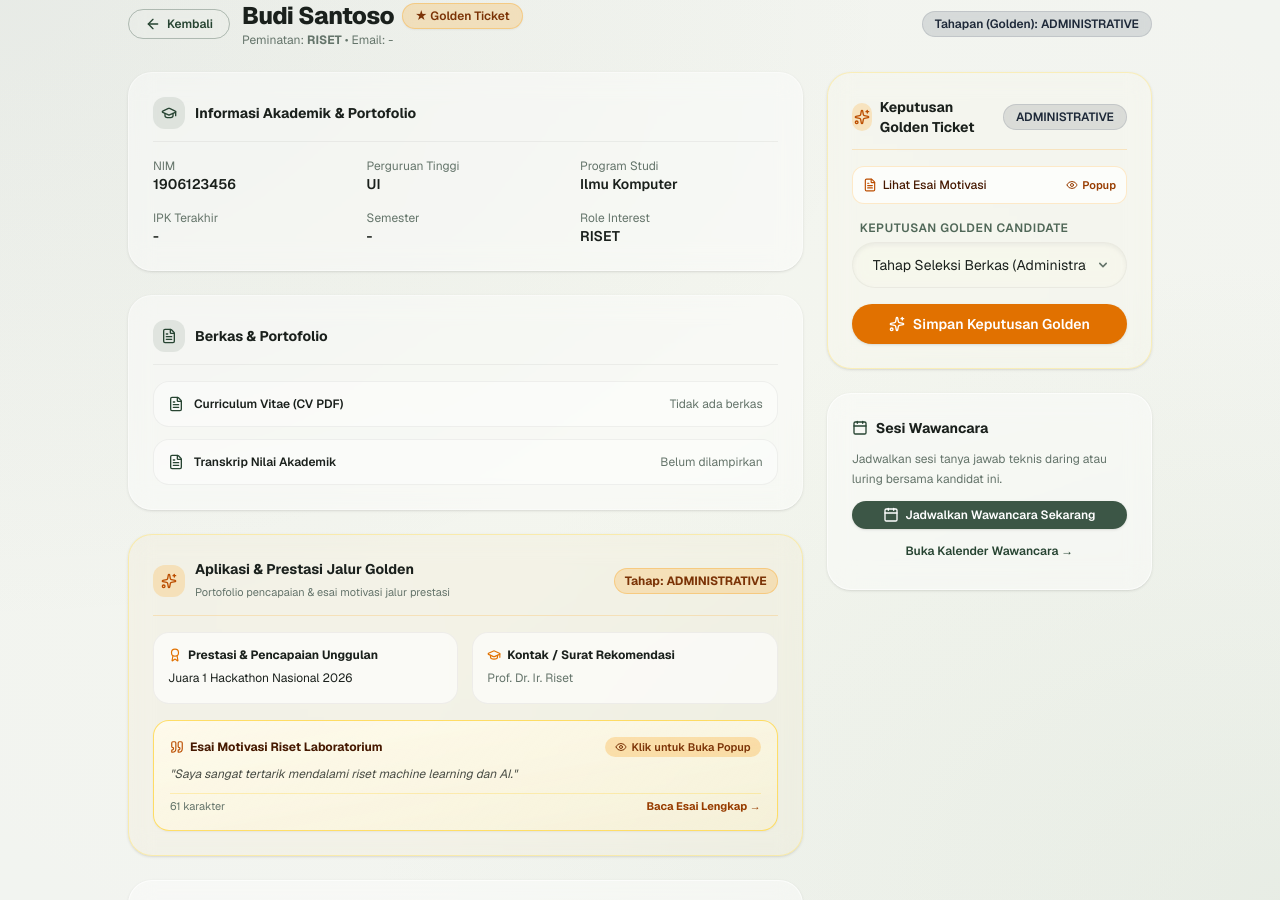
app/admin/candidates/[id] › renders golden candidate section and opens motivation essay popup modal when clicked
Expected: the heading "Aplikasi & Prestasi Jalur Golden" is shown, left=195, top=559, right=450, bottom=579
Expected: the text "Juara 1 Hackathon Nasional 2026" is shown, left=168, top=670, right=352, bottom=686
Note: Click the trigger card / button
What coordinates should you click on to do the following:
click the text "Klik untuk Buka Popup"
I would click on:
 (683, 747)
Its box is left=606, top=736, right=761, bottom=757.
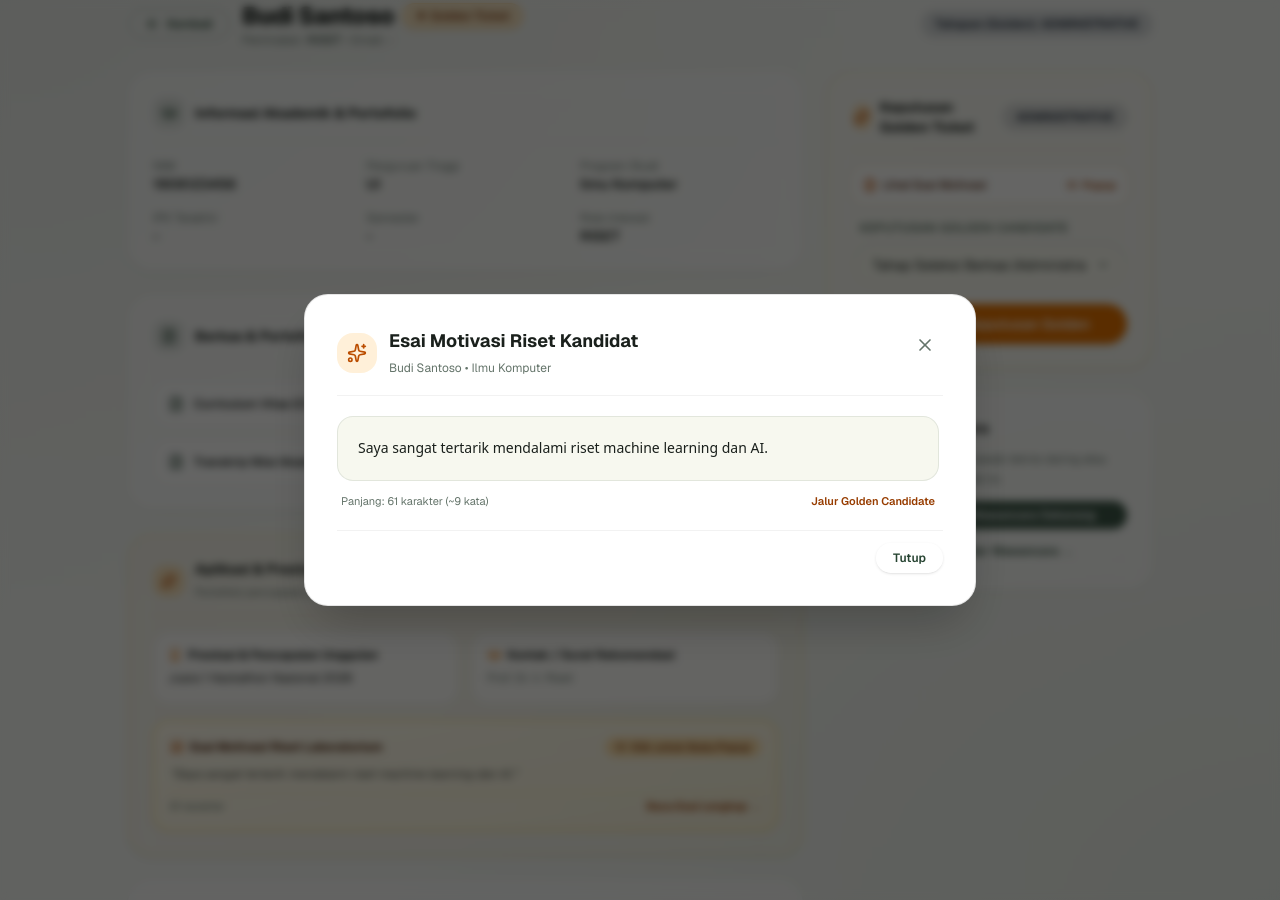
Result: the heading "Esai Motivasi Riset Kandidat" is shown at left=389, top=327, right=638, bottom=355
Note: Click "Tutup" button inside modal
What coordinates should you click on to do the following:
click the button "Tutup"
I would click on:
 (910, 558)
Its box is left=876, top=543, right=943, bottom=573.
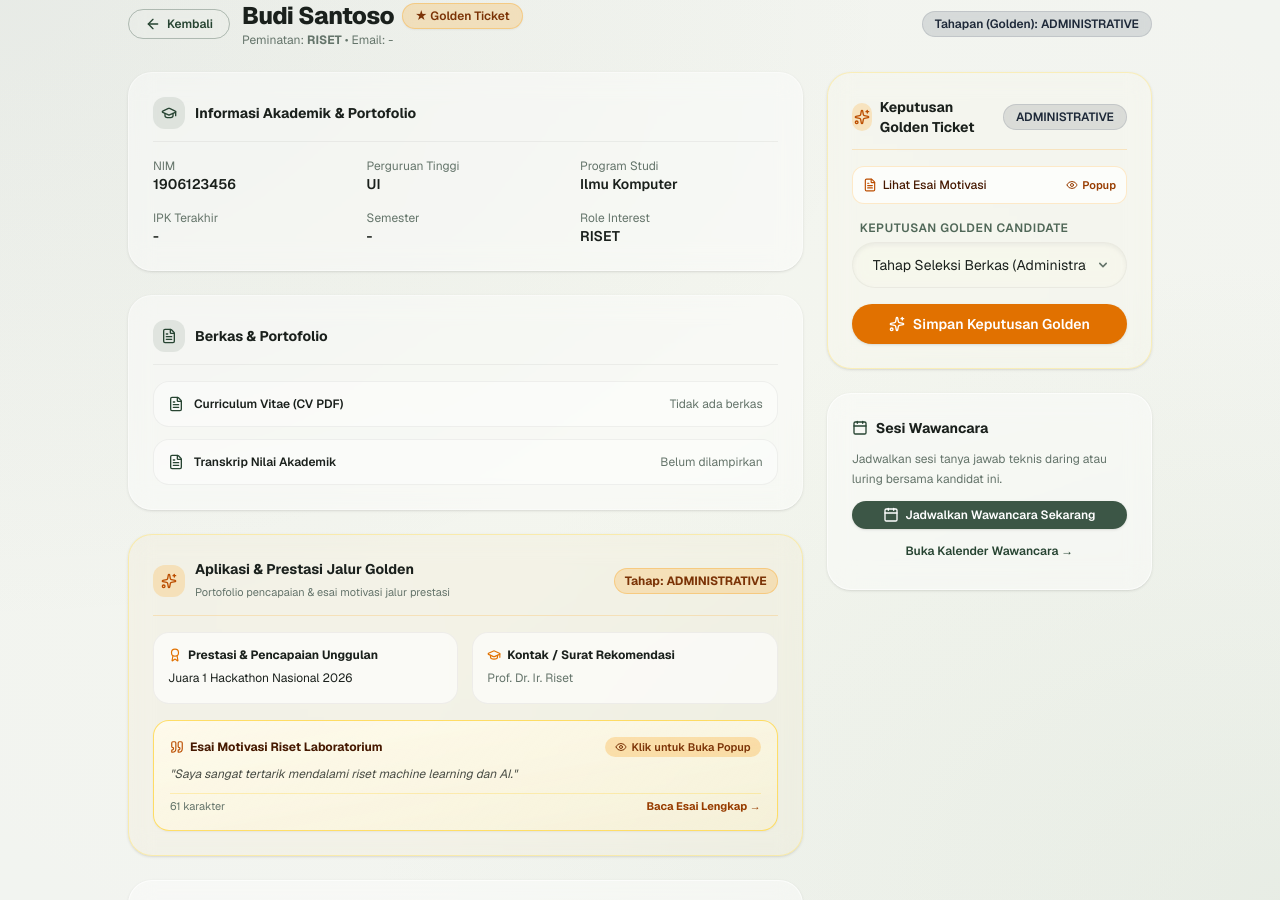
Result: the heading "Esai Motivasi Riset Kandidat" is gone
